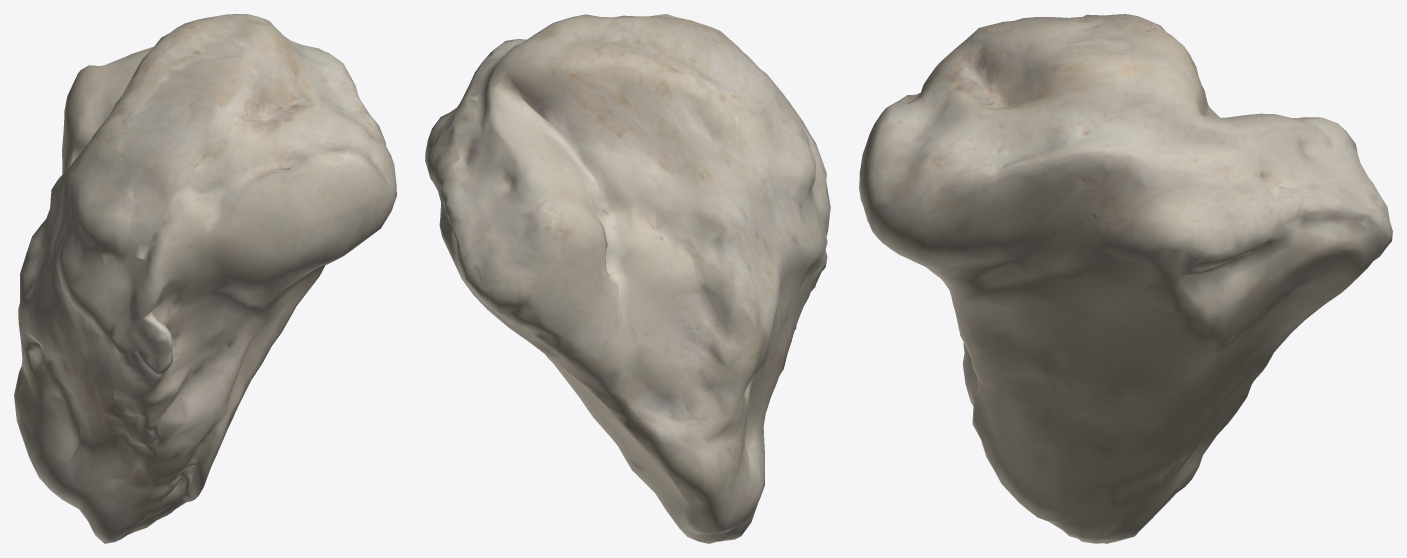
3 renders of one model, left to right at view 1: azimuth 30°, elevation 25°; view 2: azimuth 150°, elevation 25°; view 3: azimuth 270°, elevation 25°, orthographic. The views are drawn at different scales.
Parts seen in each view (by area): view 1: Kniescheibe_Rind_re_high.001; view 2: Kniescheibe_Rind_re_high.001; view 3: Kniescheibe_Rind_re_high.001.
Part boxes in pixels (box(x1,y1,x2,y2)): Kniescheibe_Rind_re_high.001: box(14, 14, 396, 543); Kniescheibe_Rind_re_high.001: box(425, 14, 830, 543); Kniescheibe_Rind_re_high.001: box(859, 14, 1392, 543).
Size of the model in its own units: 4773 by 6897 by 5861.
1 material, 1 textured.
